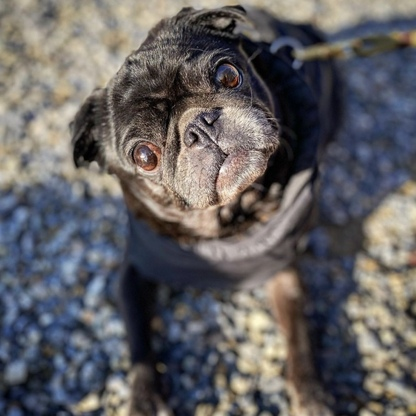Pug: (61, 2, 357, 416)
